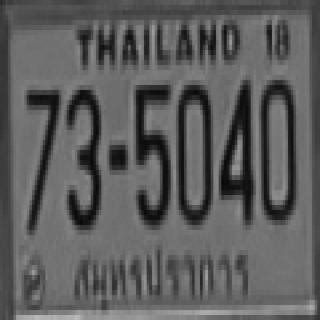N00: (261, 79, 296, 224), (177, 84, 212, 224)
N03: (66, 88, 101, 228)
N04: (219, 78, 254, 223)
N05: (135, 82, 170, 226)
N07: (24, 85, 59, 230)
P57: (67, 246, 253, 315)
